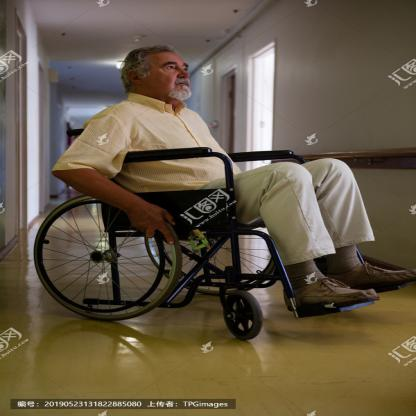wheelchair: (27, 44, 415, 341)
